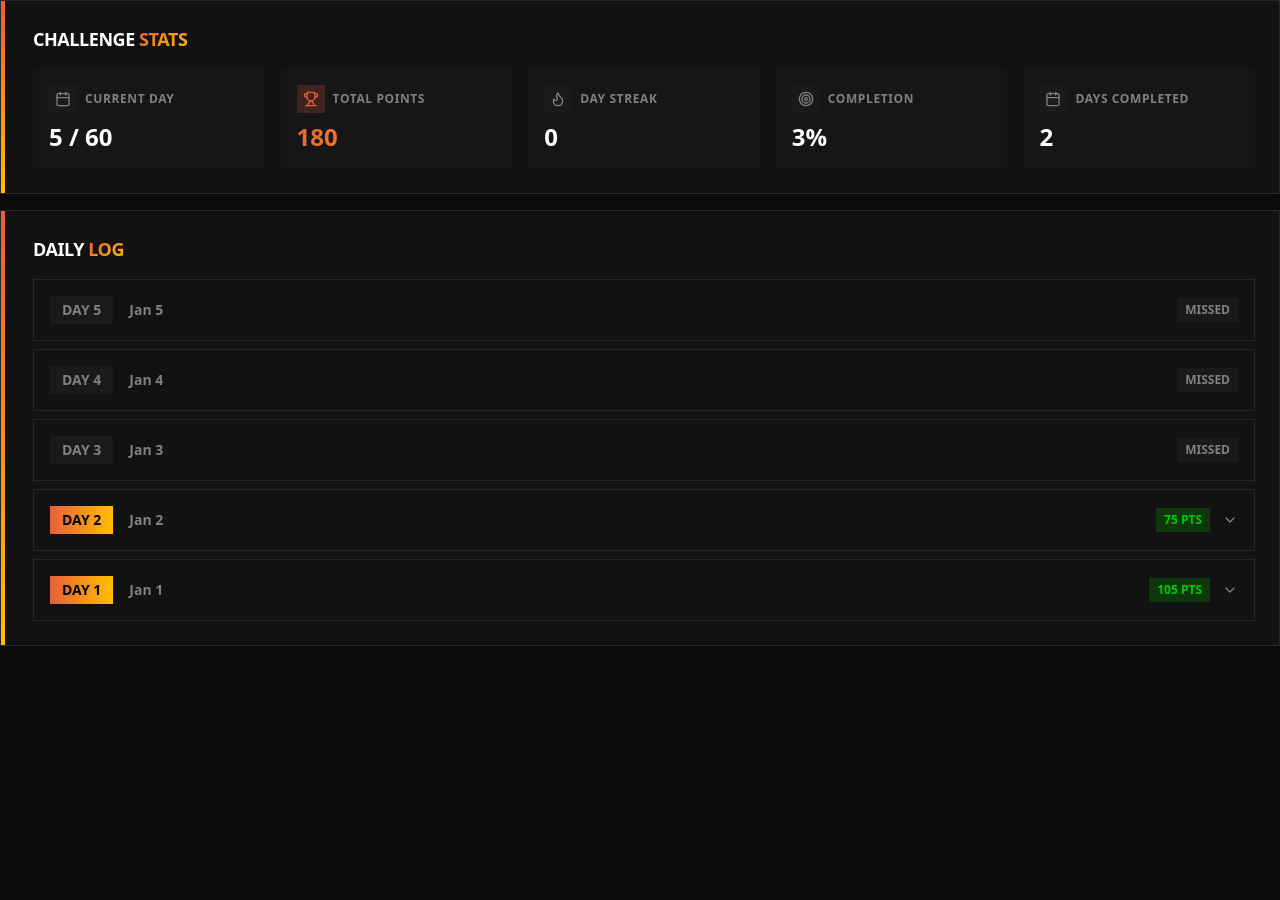
Scenario: ChallengeProgressTab › expanded day without feeling/tomorrowFocus › does not render feeling/focus section when both are null
This screenshot has width=1280, height=900.
Note: Click on Day 2 which has null feeling and tomorrow_focus
Click the button "Day 2 Jan 2 75 pts". click: coordinates (82, 520)
box: 34,490 -> 1254,550
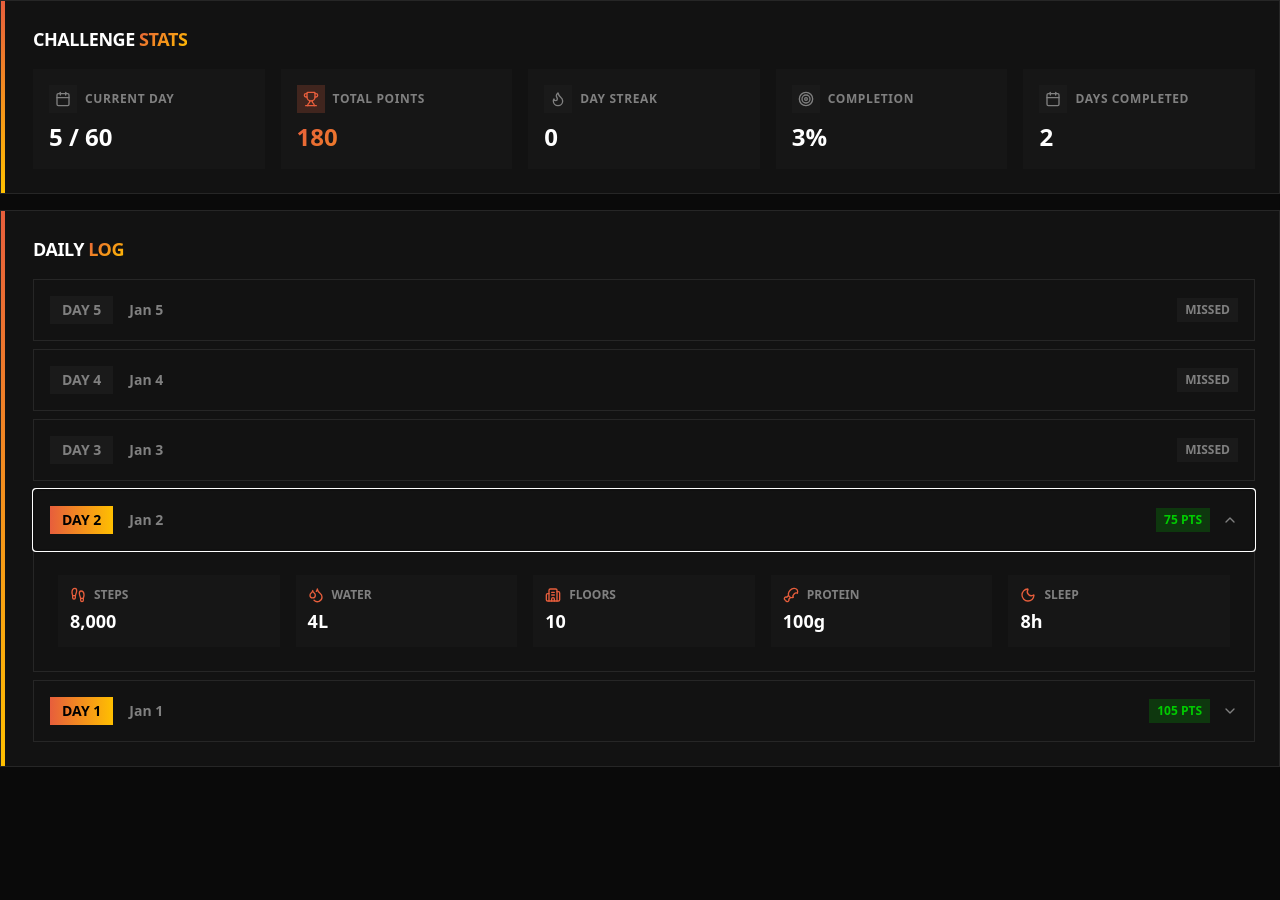
Result: the text "8,000" is shown at 70,609 -> 116,633
